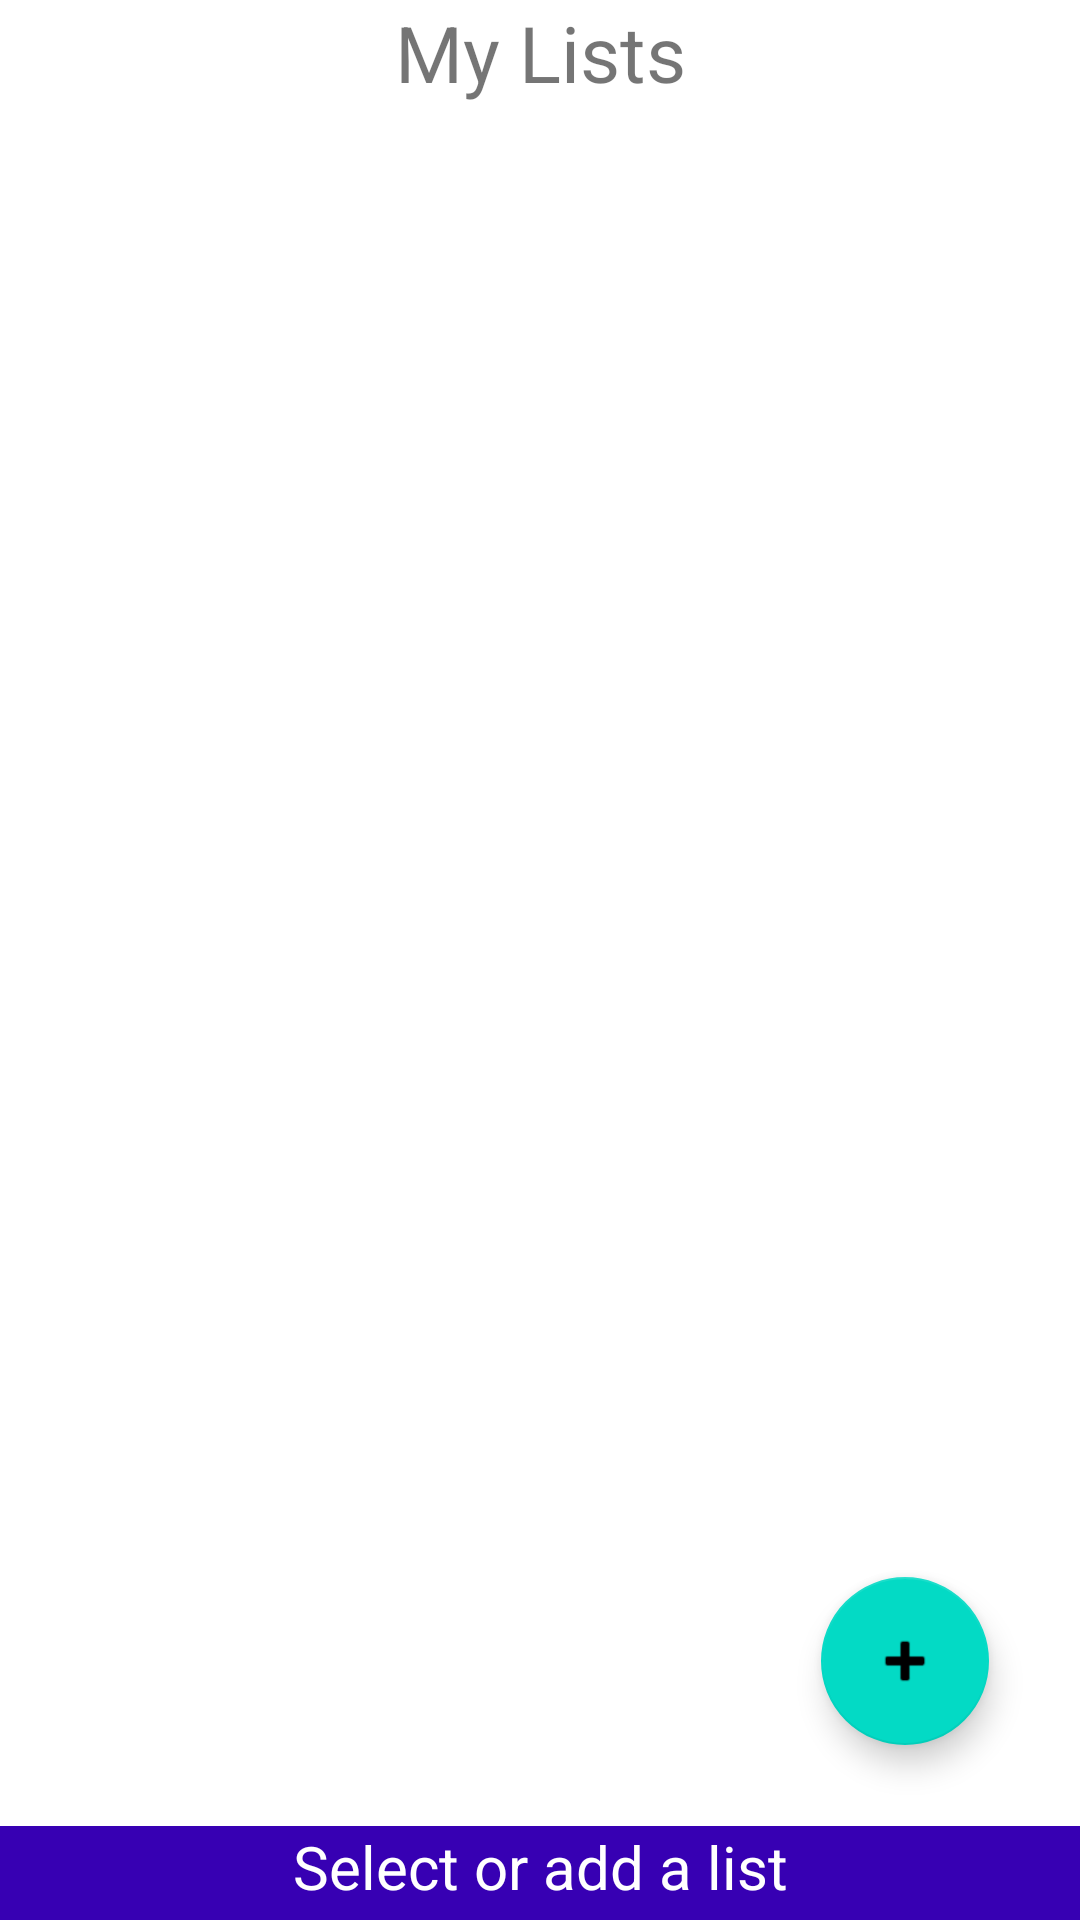

Icon click points for this 1080×1920 phone screenshot, format (x=x, y=y):
New List: (x=905, y=1661)
